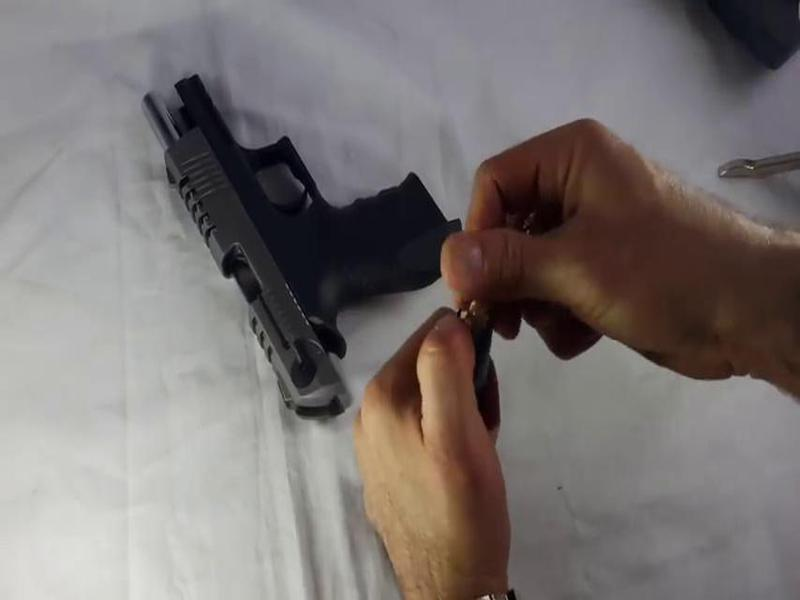Pistola: (132, 68, 464, 428)
